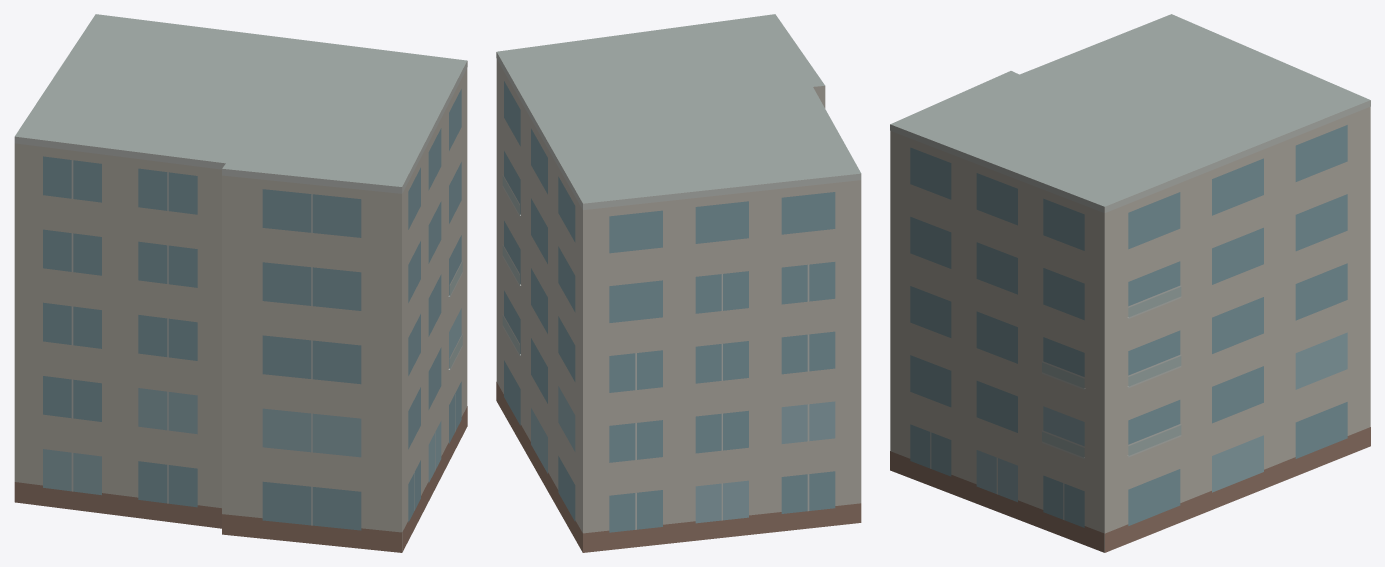
File: survey-upis-33032082.glb
3 renders of one model, left to right at view 1: azimuth 30°, elevation 25°; view 2: azimuth 150°, elevation 25°; view 3: azimuth 270°, elevation 25°, orthographic. The views are drawn at different scales.
Parts seen in each view (by area): view 1: survey-upis-33032082.tmp; view 2: survey-upis-33032082.tmp; view 3: survey-upis-33032082.tmp.
Boxes of the visible parts, x1,y1,x2,y2 form: survey-upis-33032082.tmp: (14,14,467,552); survey-upis-33032082.tmp: (496,14,861,552); survey-upis-33032082.tmp: (890,14,1370,552).
Size of the model in its own units: 15.72 by 13.15 by 16.56.
